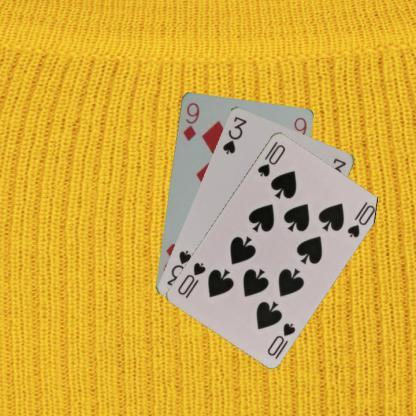10s: (264, 320, 298, 358), (254, 138, 286, 178)
3s: (219, 114, 248, 156)
9d: (180, 100, 200, 142)
